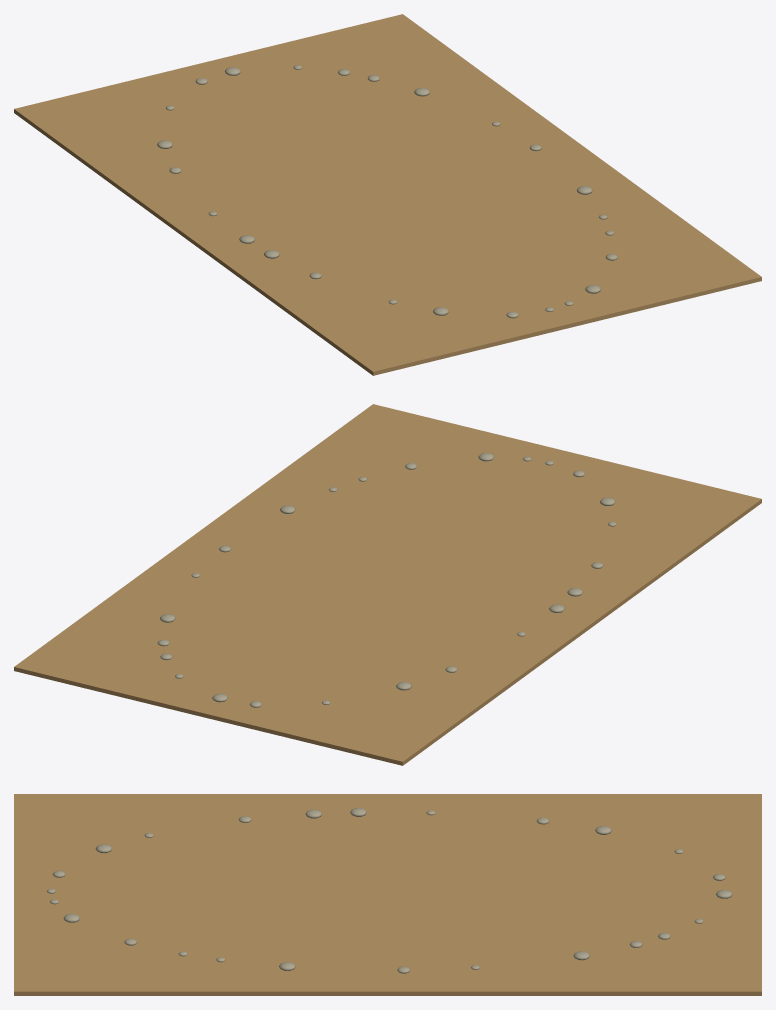
File: LV_DUONG_DAT_01.glb
3 views of the same model, one above another, from view 1: azimuth 30°, elevation 25°; view 2: azimuth 150°, elevation 25°; view 3: azimuth 270°, elevation 25° (orthographic). The views are drawn at different scales.
Parts seen in each view (by area): view 1: LV_DUONG_DAT_01-surface-b39160, LV_DUONG_DAT_01-surface-a8a28c; view 2: LV_DUONG_DAT_01-surface-b39160, LV_DUONG_DAT_01-surface-a8a28c; view 3: LV_DUONG_DAT_01-surface-b39160, LV_DUONG_DAT_01-surface-a8a28c.
Boxes of the visible parts, x1,y1,x2,y2 form: LV_DUONG_DAT_01-surface-b39160: [14, 14, 761, 375]; LV_DUONG_DAT_01-surface-a8a28c: [157, 65, 617, 318]; LV_DUONG_DAT_01-surface-b39160: [14, 404, 761, 765]; LV_DUONG_DAT_01-surface-a8a28c: [157, 452, 616, 707]; LV_DUONG_DAT_01-surface-b39160: [14, 794, 761, 995]; LV_DUONG_DAT_01-surface-a8a28c: [47, 808, 732, 973].
Size of the model in its own units: 2.5 by 0.053 by 4.
